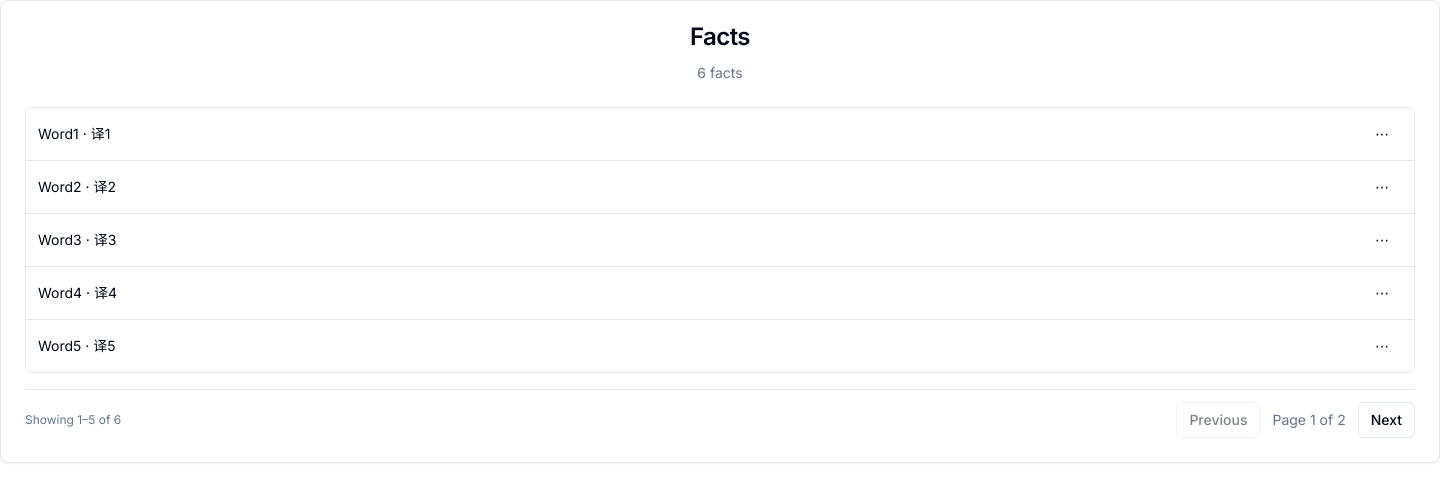
Scenario: FactsList › pagination › Next is disabled on the last page
Click the button "Next": click(1386, 420) [1358,402,1415,438]
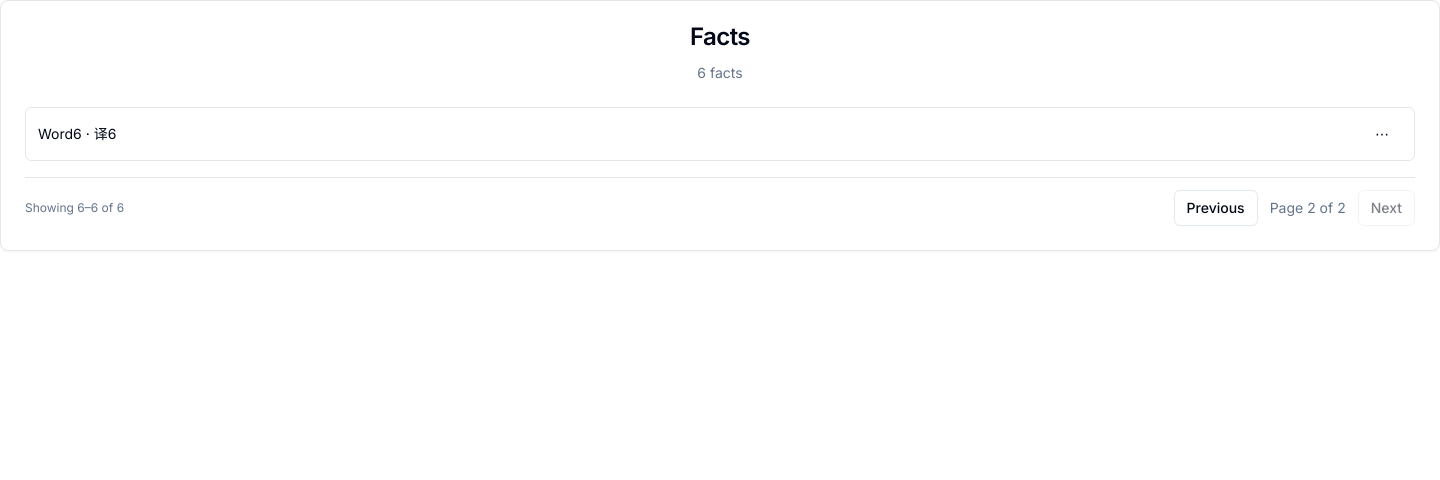
Result: the button "Next" is disabled at [1358,190,1415,226]
